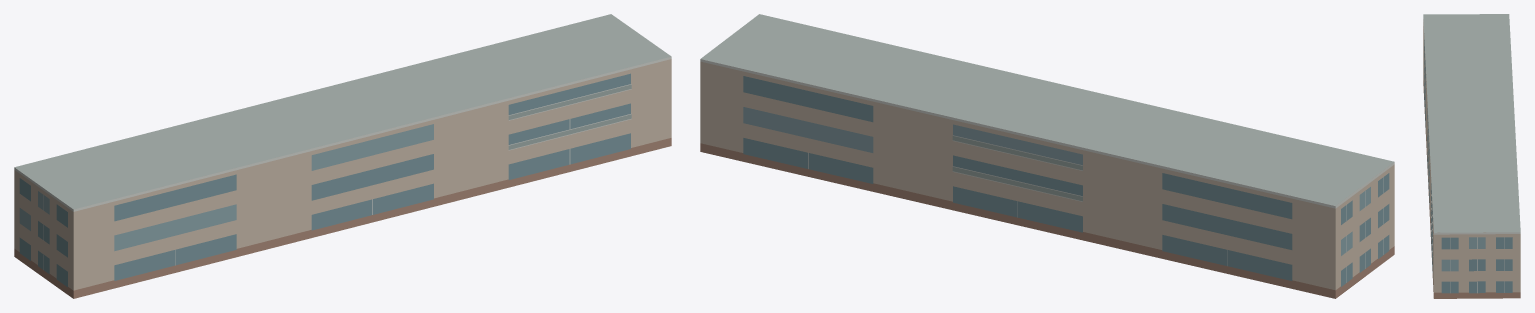
The model's file is survey-upis-32736851.glb.
3 views of the same model, side by side, from view 1: azimuth 30°, elevation 25°; view 2: azimuth 150°, elevation 25°; view 3: azimuth 270°, elevation 25° (orthographic). The views are drawn at different scales.
Visible parts, largest first — view 1: survey-upis-32736851.tmp; view 2: survey-upis-32736851.tmp; view 3: survey-upis-32736851.tmp.
Boxes of the visible parts, x1,y1,x2,y2 form: survey-upis-32736851.tmp: (14, 14, 671, 298); survey-upis-32736851.tmp: (700, 14, 1394, 298); survey-upis-32736851.tmp: (1423, 14, 1520, 298).
Size of the model in its own units: 64.95 by 9.15 by 12.24.
